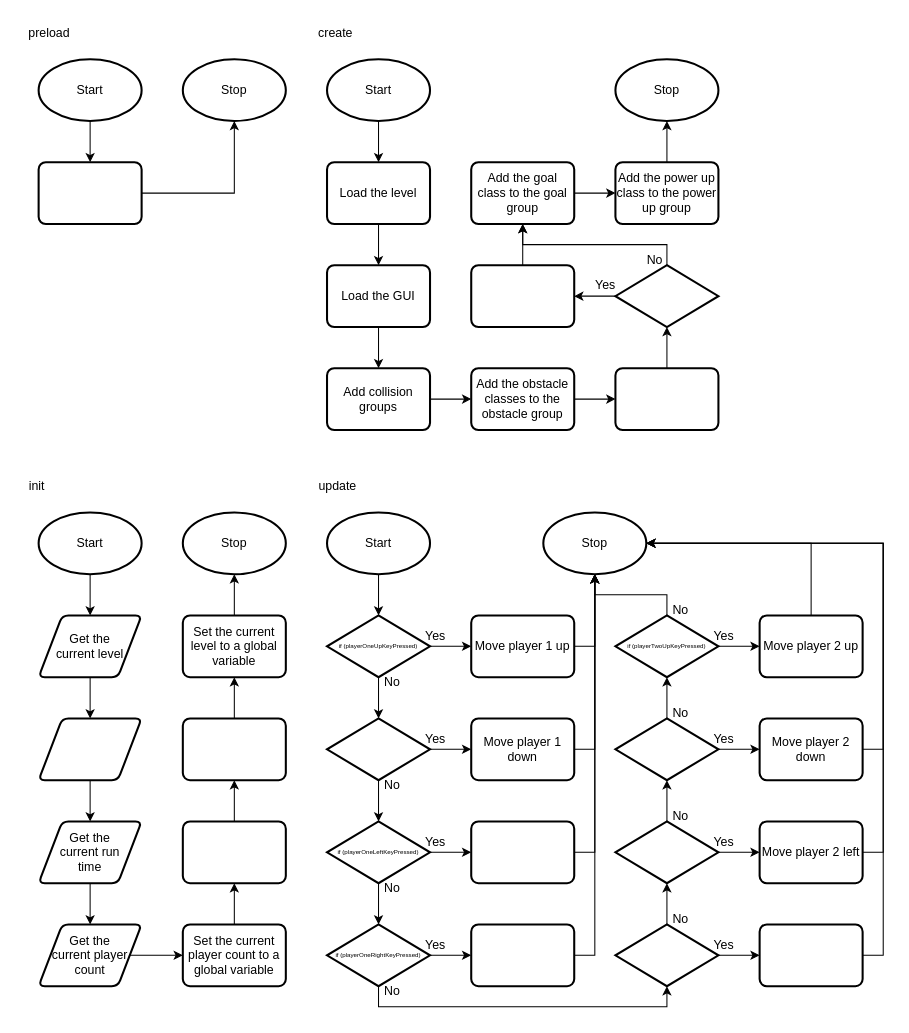
The diagram is 909 pixels wide and 1033 high, and some of its shapes have lost their labels. Here are the shapes that lost their labels. From the top down, the box of each, then its label:
(37, 161, 142, 225): Load game assets (images, sounds, etc)
(470, 264, 575, 328): Add the player two class to the player group
(614, 264, 719, 328): if (playerTwo)
(614, 367, 719, 431): Add the player one class to the player group
(37, 717, 142, 781): Get the times lost
(181, 717, 286, 781): Set the times lost to a global variable
(325, 717, 431, 781): if (playerOneDownKeyPressed)
(614, 717, 719, 781): if (playerTwoDownKeyPressed)
(181, 820, 286, 884): Set the current run time to a global variable
(470, 820, 575, 884): Move player 1 left
(614, 820, 719, 884): if (playerTwoLeftKeyPressed)
(470, 923, 575, 987): Move player 1 right
(614, 923, 719, 987): if (playerTwoRightKeyPressed)
(758, 923, 863, 987): Move player 2 right
